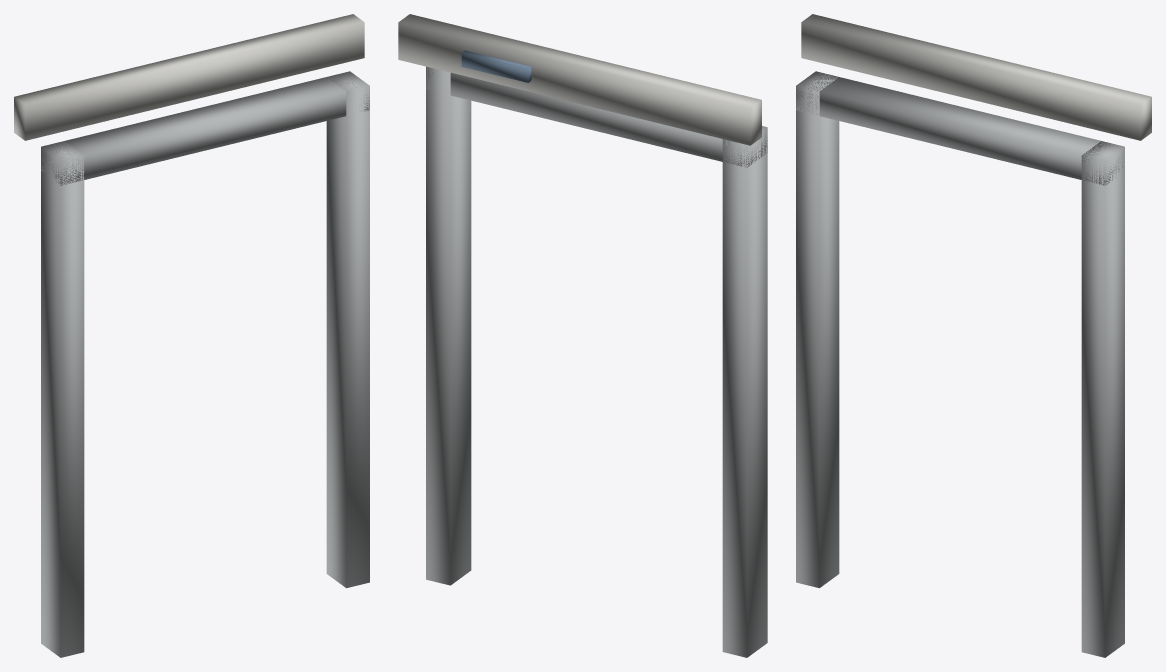
The model's file is doorway_hospital_w122_h210_d16.glb.
The picture shows the model from 3 angles, left to right: view 1: azimuth 30°, elevation 25°; view 2: azimuth 150°, elevation 25°; view 3: azimuth 330°, elevation 25°; orthographic projection. The views are drawn at different scales.
Parts seen in each view (by area): view 1: world; view 2: world; view 3: world.
Boxes of the visible parts, left/top/right/bottom form: world: left=14, top=14, right=369, bottom=657; world: left=398, top=14, right=767, bottom=657; world: left=796, top=14, right=1151, bottom=657.
Bounding box in the file's own units: 1.58 × 2.41 × 0.28.
